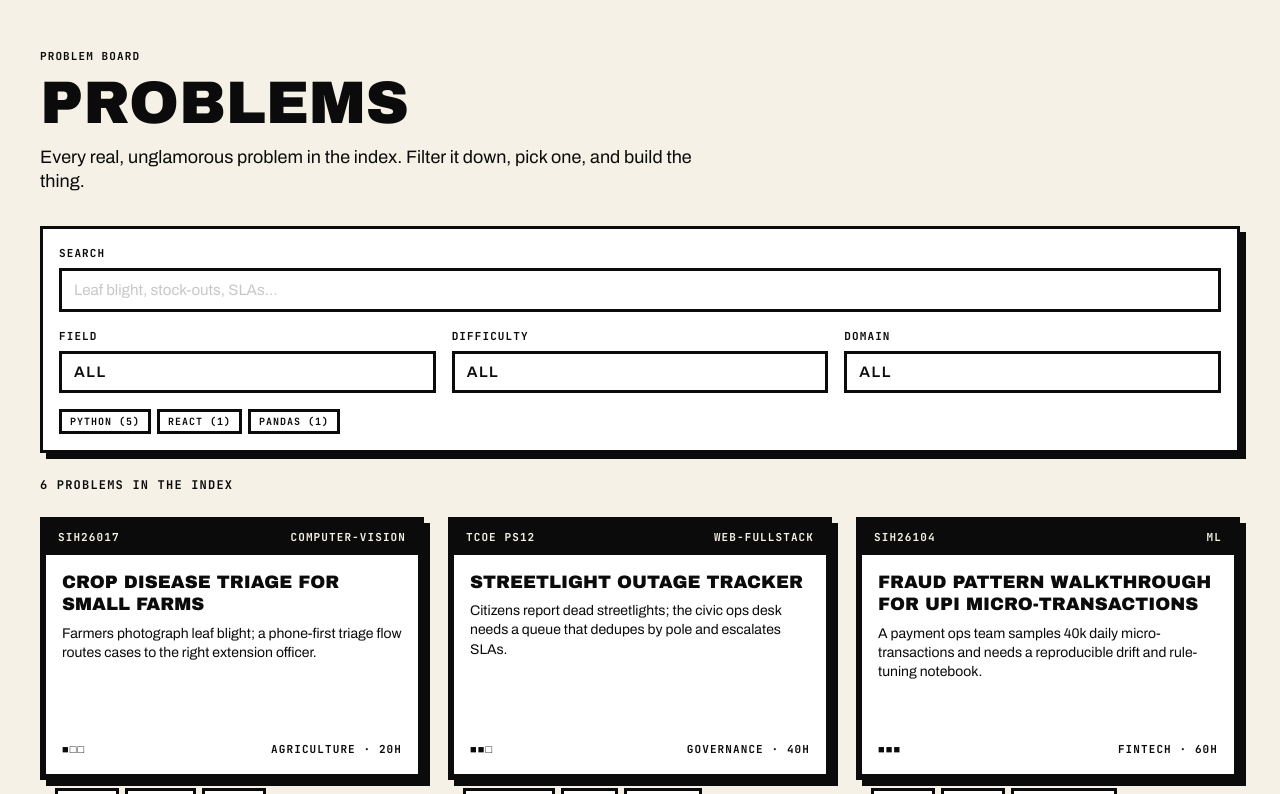
Test: ProblemBoardPage › clear filters resets the board
This screenshot has width=1280, height=794.
Step 1. Select "beginner (2)" in the dropdown labelled "Difficulty" → [640, 372], box [452,351,828,393]
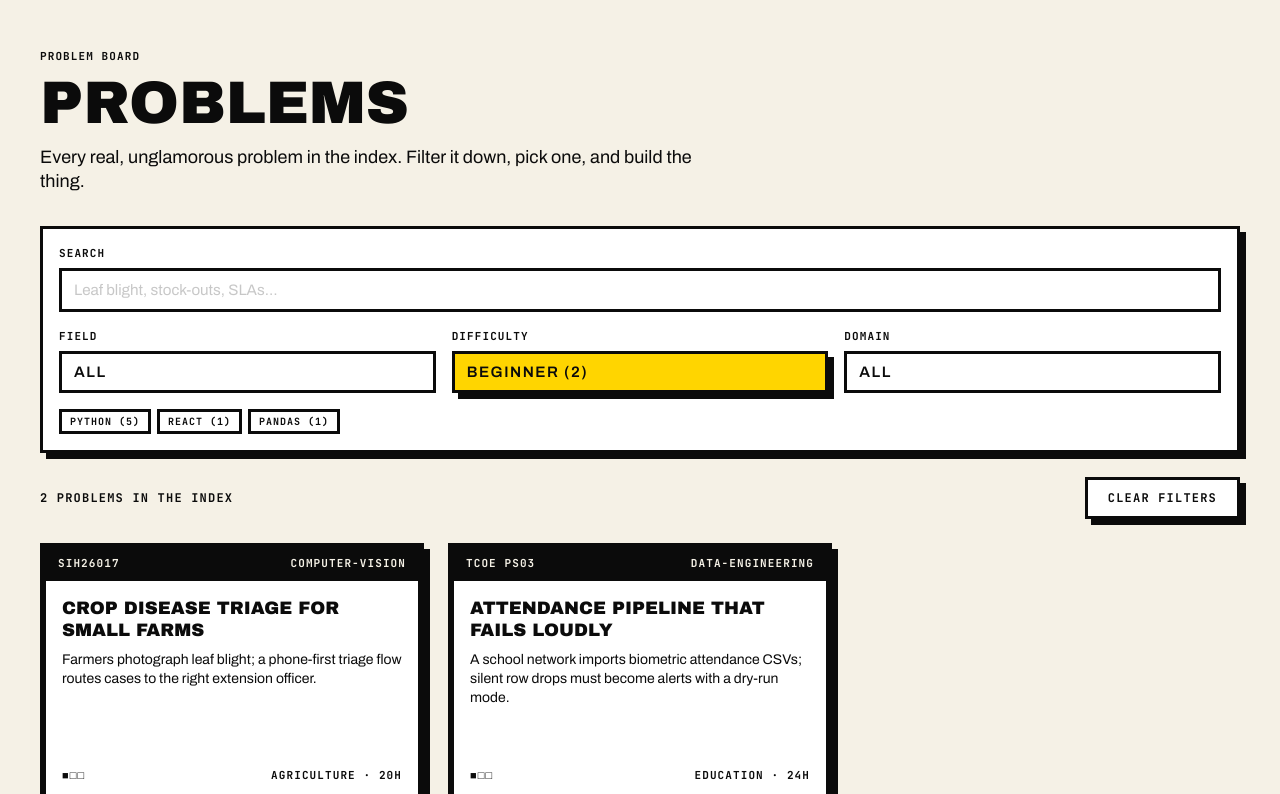
Step 2. Click the button "Clear filters" → [1162, 498], box [1085,477,1240,519]
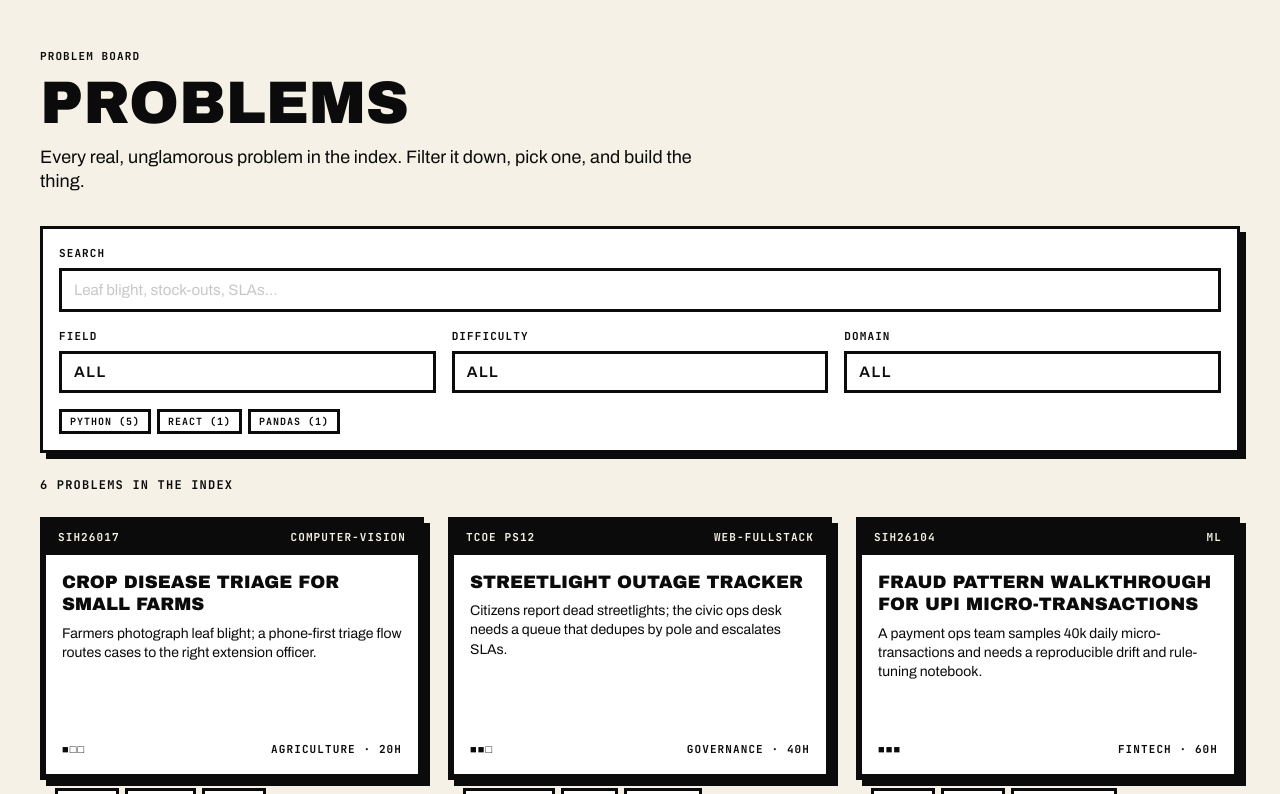
Expected: the text "6 problems in the index" is shown, [40,477,233,493]
Expected: the button "Clear filters" is gone
